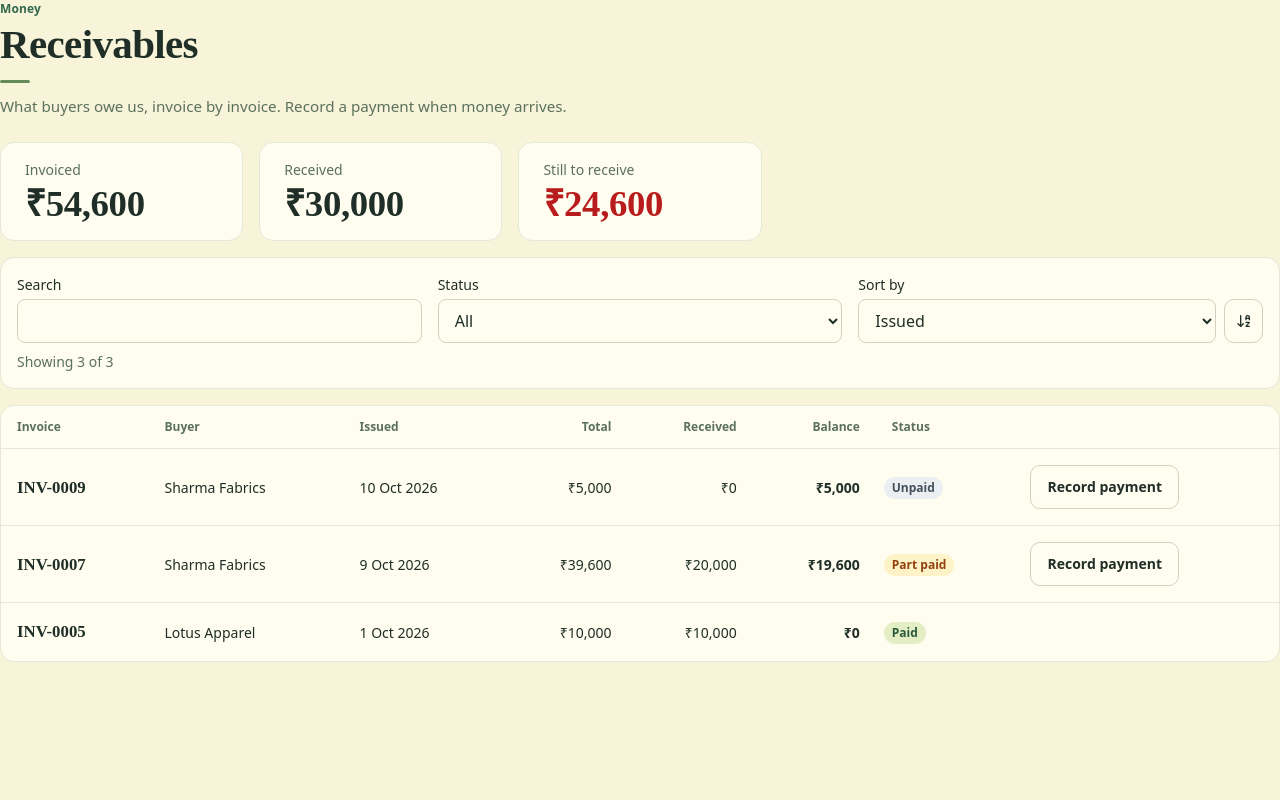
Scenario: Receivables › records a payment with the amount, date and reference
The image size is (1280, 800).
Click the button named "record payment for INV-0007" at (1105,564), box [1030, 542, 1179, 586]
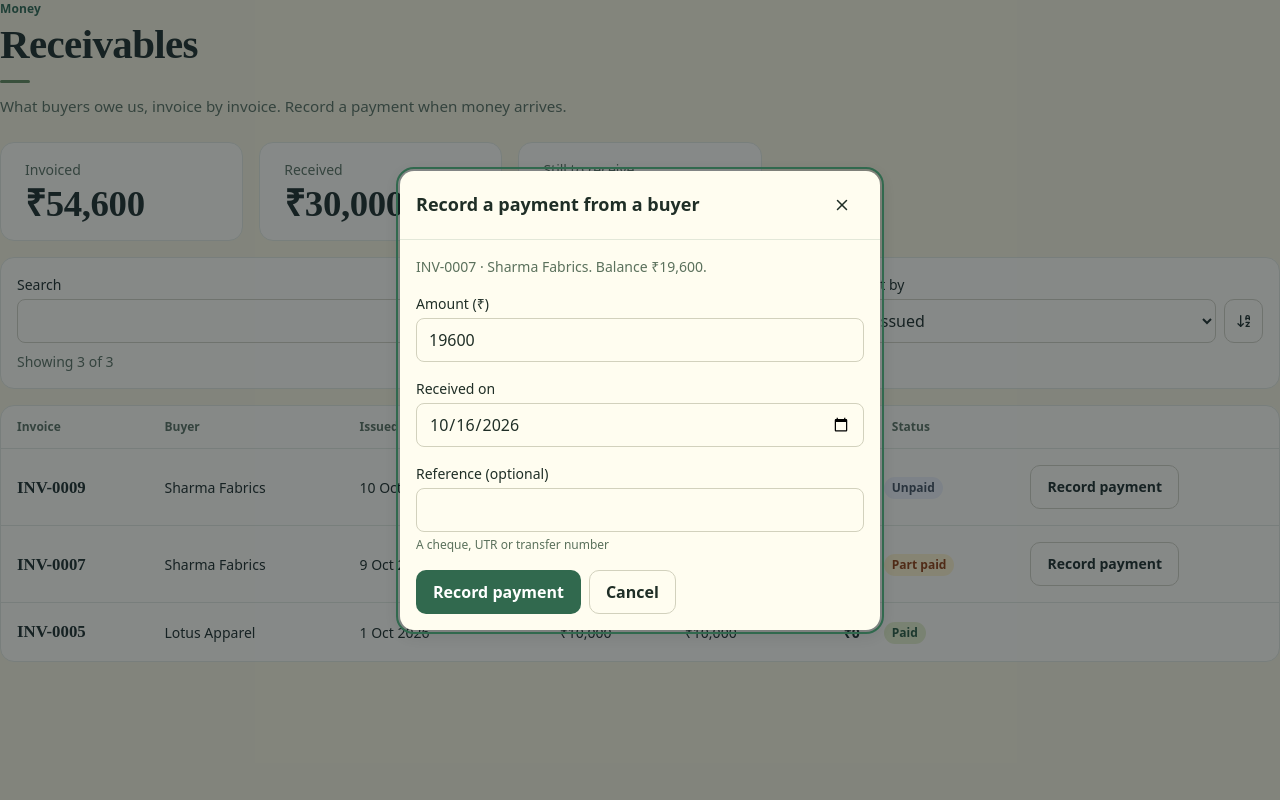
expect the field labelled "Amount (₹)" holds "19600": met
Replace the text in the field labelled "Amount (₹)" with "5000" at (640,340), box [416, 318, 864, 362]
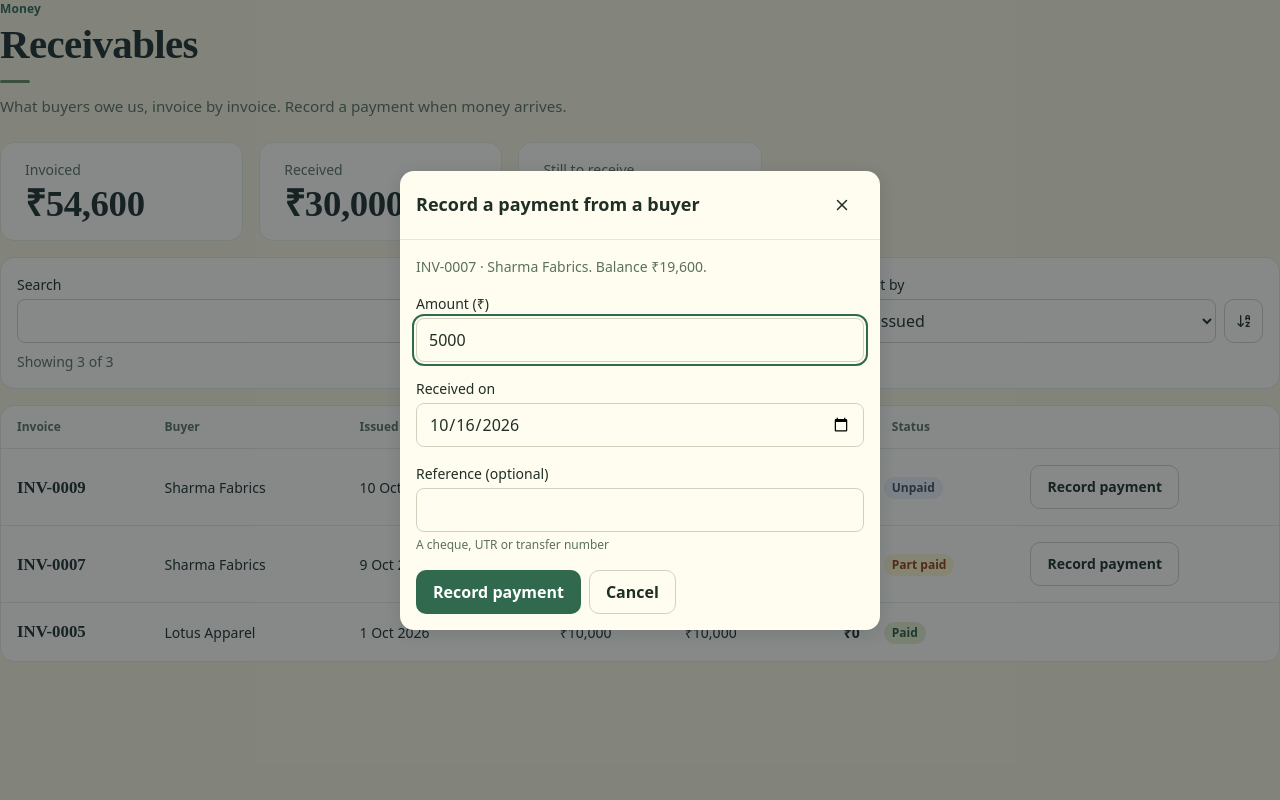
Type "UTR 99123" into the field labelled "Reference (optional)" at (640,510), box [416, 488, 864, 532]
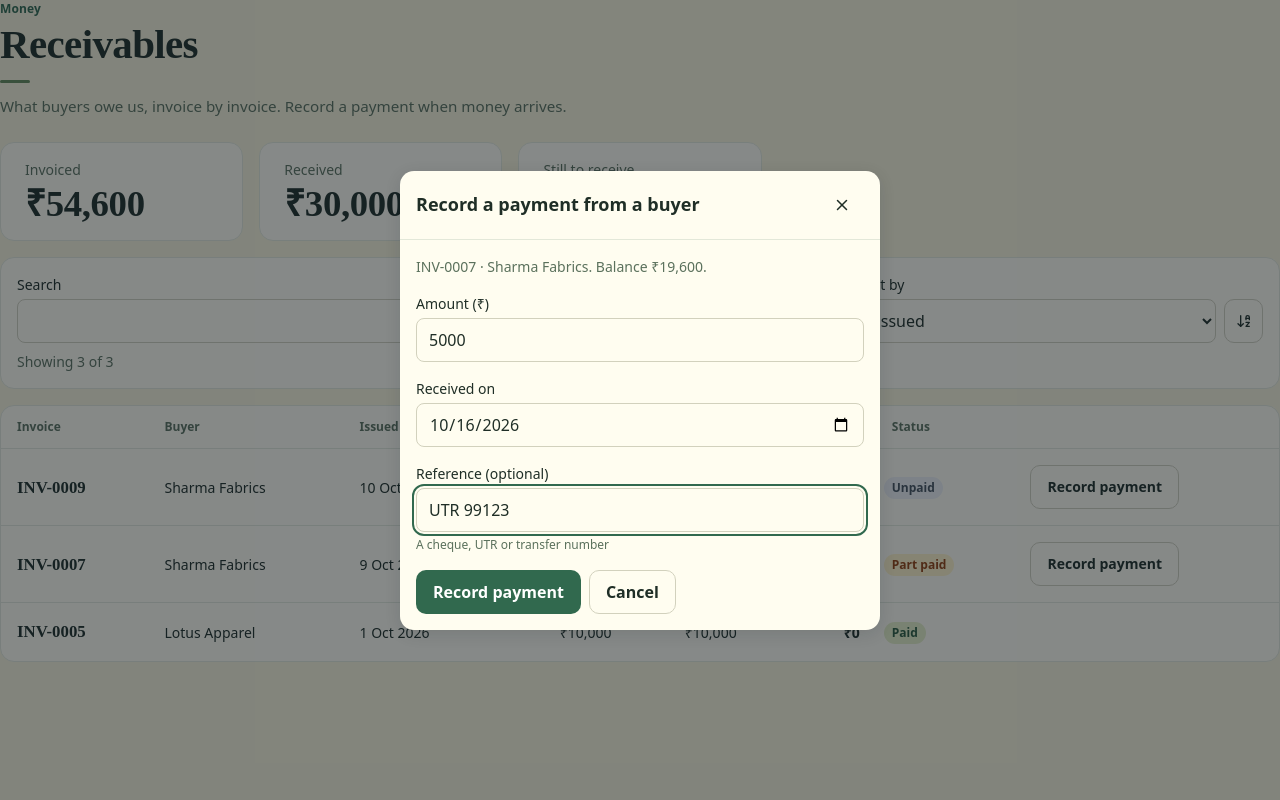
Click the button "Record payment" at (498,592), box [416, 570, 581, 614]
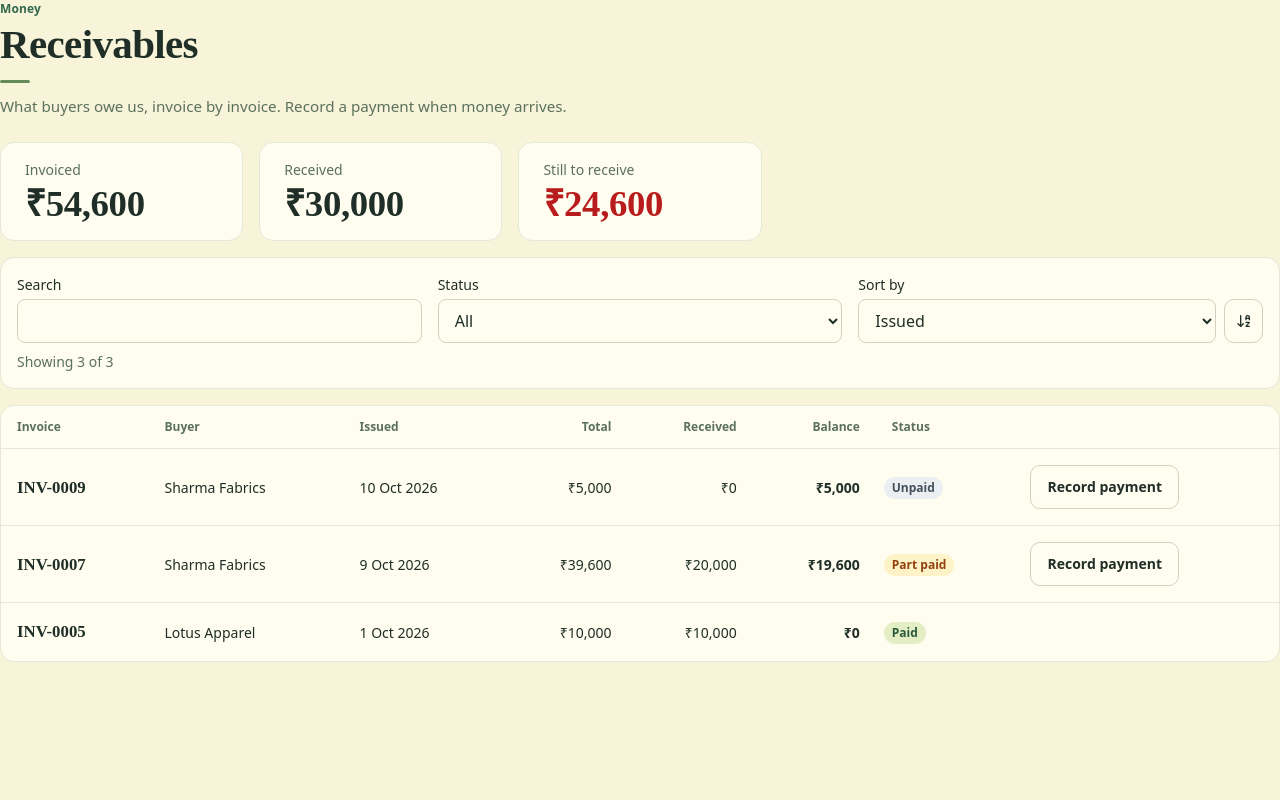
expect the dialog is gone: met
